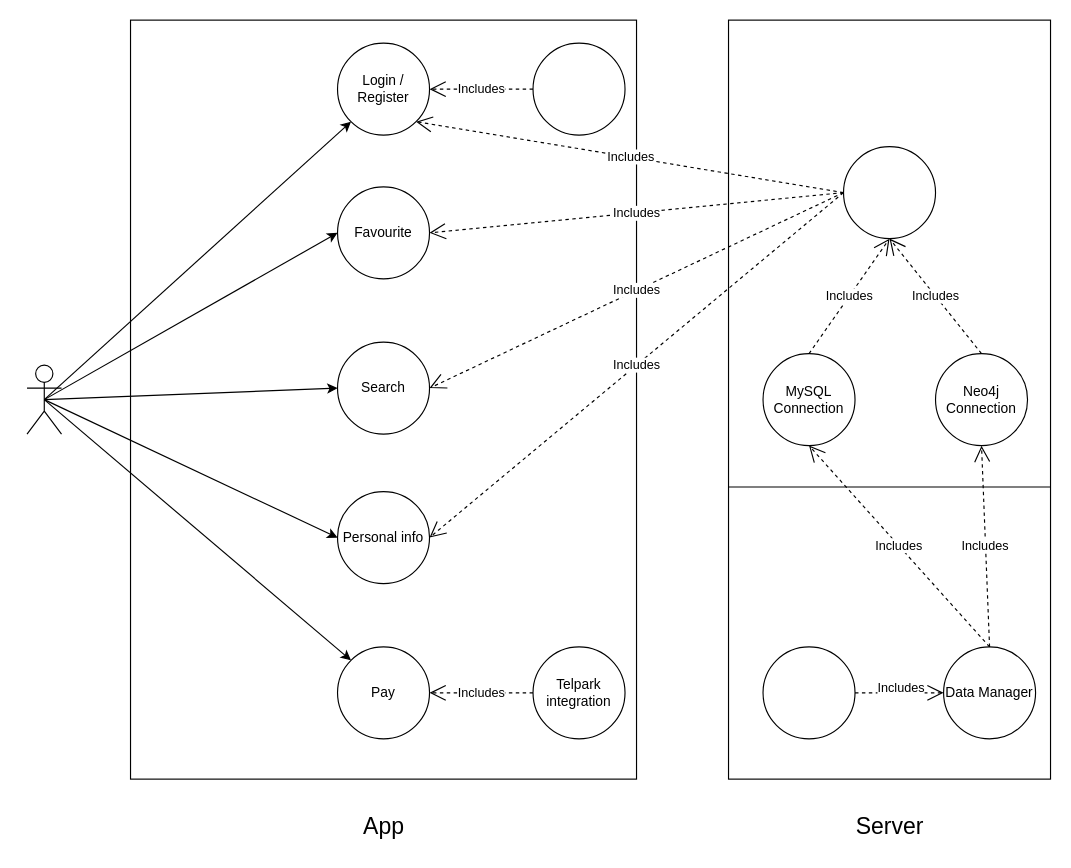
Some shapes in this 1071 by 868 pixel diagram are drawn without their labels. The centre of each missing label's shape, as x and y in pixels:
"Database Manager" goes at point 889,192.
"Encryption" goes at point 578,88.
"Parsers" goes at point 808,692.
"User" goes at point 44,399.
